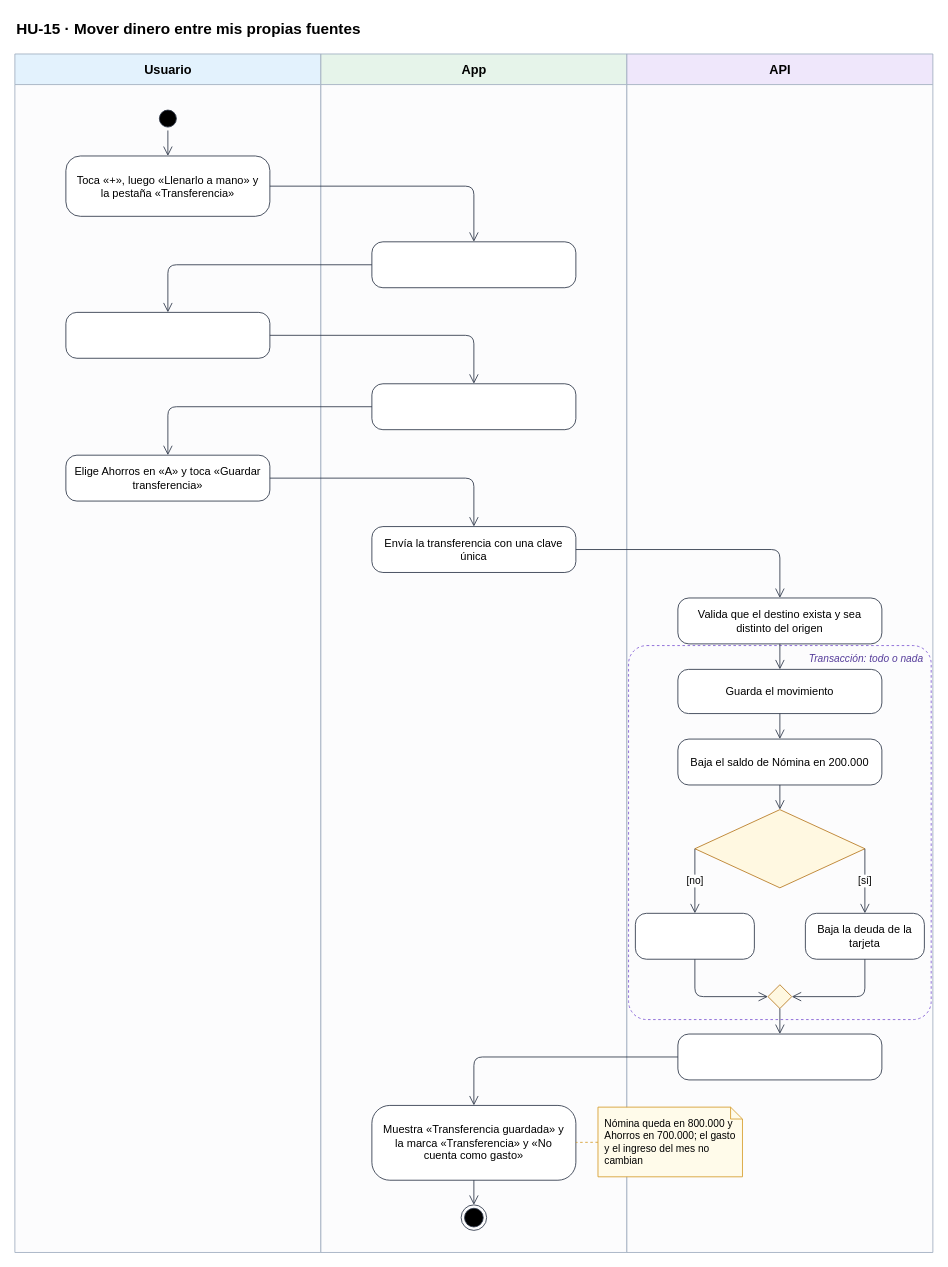
The diagram is 948 pixels wide and 1267 high, and some of its shapes have lost their labels. The shapes that lost their labels are listed below. From the top down, each one's centre as x and y in pixels, then its label:
the point at 473,264: Oculta «Categoría» y muestra «De» y «A»
the point at 167,335: Escribe 200.000 y elige Nómina en «De»
the point at 473,406: En «A» ofrece todas las fuentes menos Nómina
the point at 779,848: ¿El destino es una tarjeta de crédito?
the point at 694,935: Sube el saldo de Ahorros
the point at 779,1056: Confirma la transacción y responde
